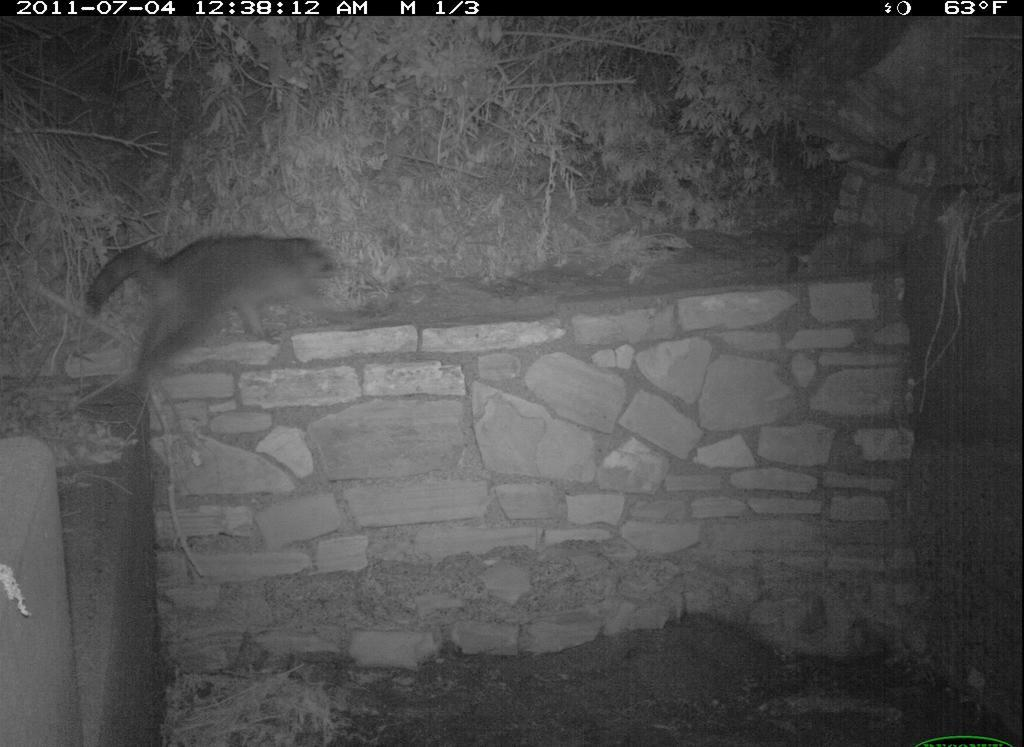raccoon: (85, 212, 338, 392)
